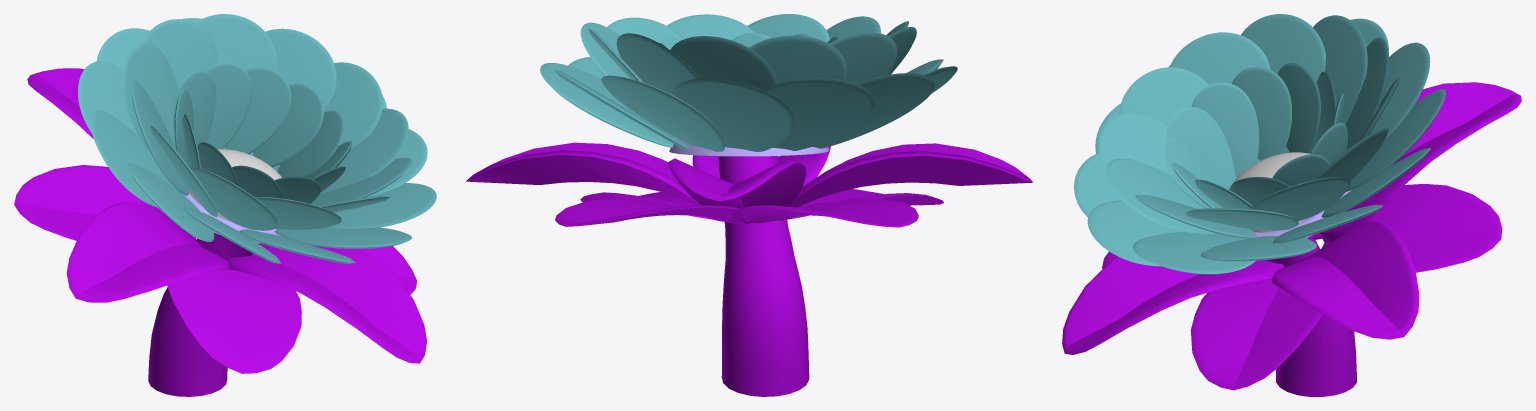
File: Flower2.fbx
3 renders of one model, left to right at view 1: azimuth 30°, elevation 25°; view 2: azimuth 150°, elevation 25°; view 3: azimuth 270°, elevation 25°, orthographic. The views are drawn at different scales.
Visible parts, largest first — view 1: pedals2, leaves, stem2, center; view 2: pedals2, leaves, stem2; view 3: pedals2, leaves, stem2, center.
Part boxes in pixels (x1=…): pedals2: x1=78, y1=14, x2=436, y2=263; leaves: x1=14, y1=68, x2=426, y2=373; stem2: x1=148, y1=232, x2=260, y2=396; center: x1=189, y1=149, x2=282, y2=221; pedals2: x1=540, y1=14, x2=957, y2=151; leaves: x1=466, y1=139, x2=1032, y2=227; stem2: x1=718, y1=156, x2=809, y2=396; pedals2: x1=1074, y1=14, x2=1445, y2=274; leaves: x1=1062, y1=82, x2=1521, y2=390; stem2: x1=1264, y1=235, x2=1356, y2=396; center: x1=1229, y1=152, x2=1310, y2=232.
Size of the model in its own units: 0.9952 by 0.772 by 0.94.
